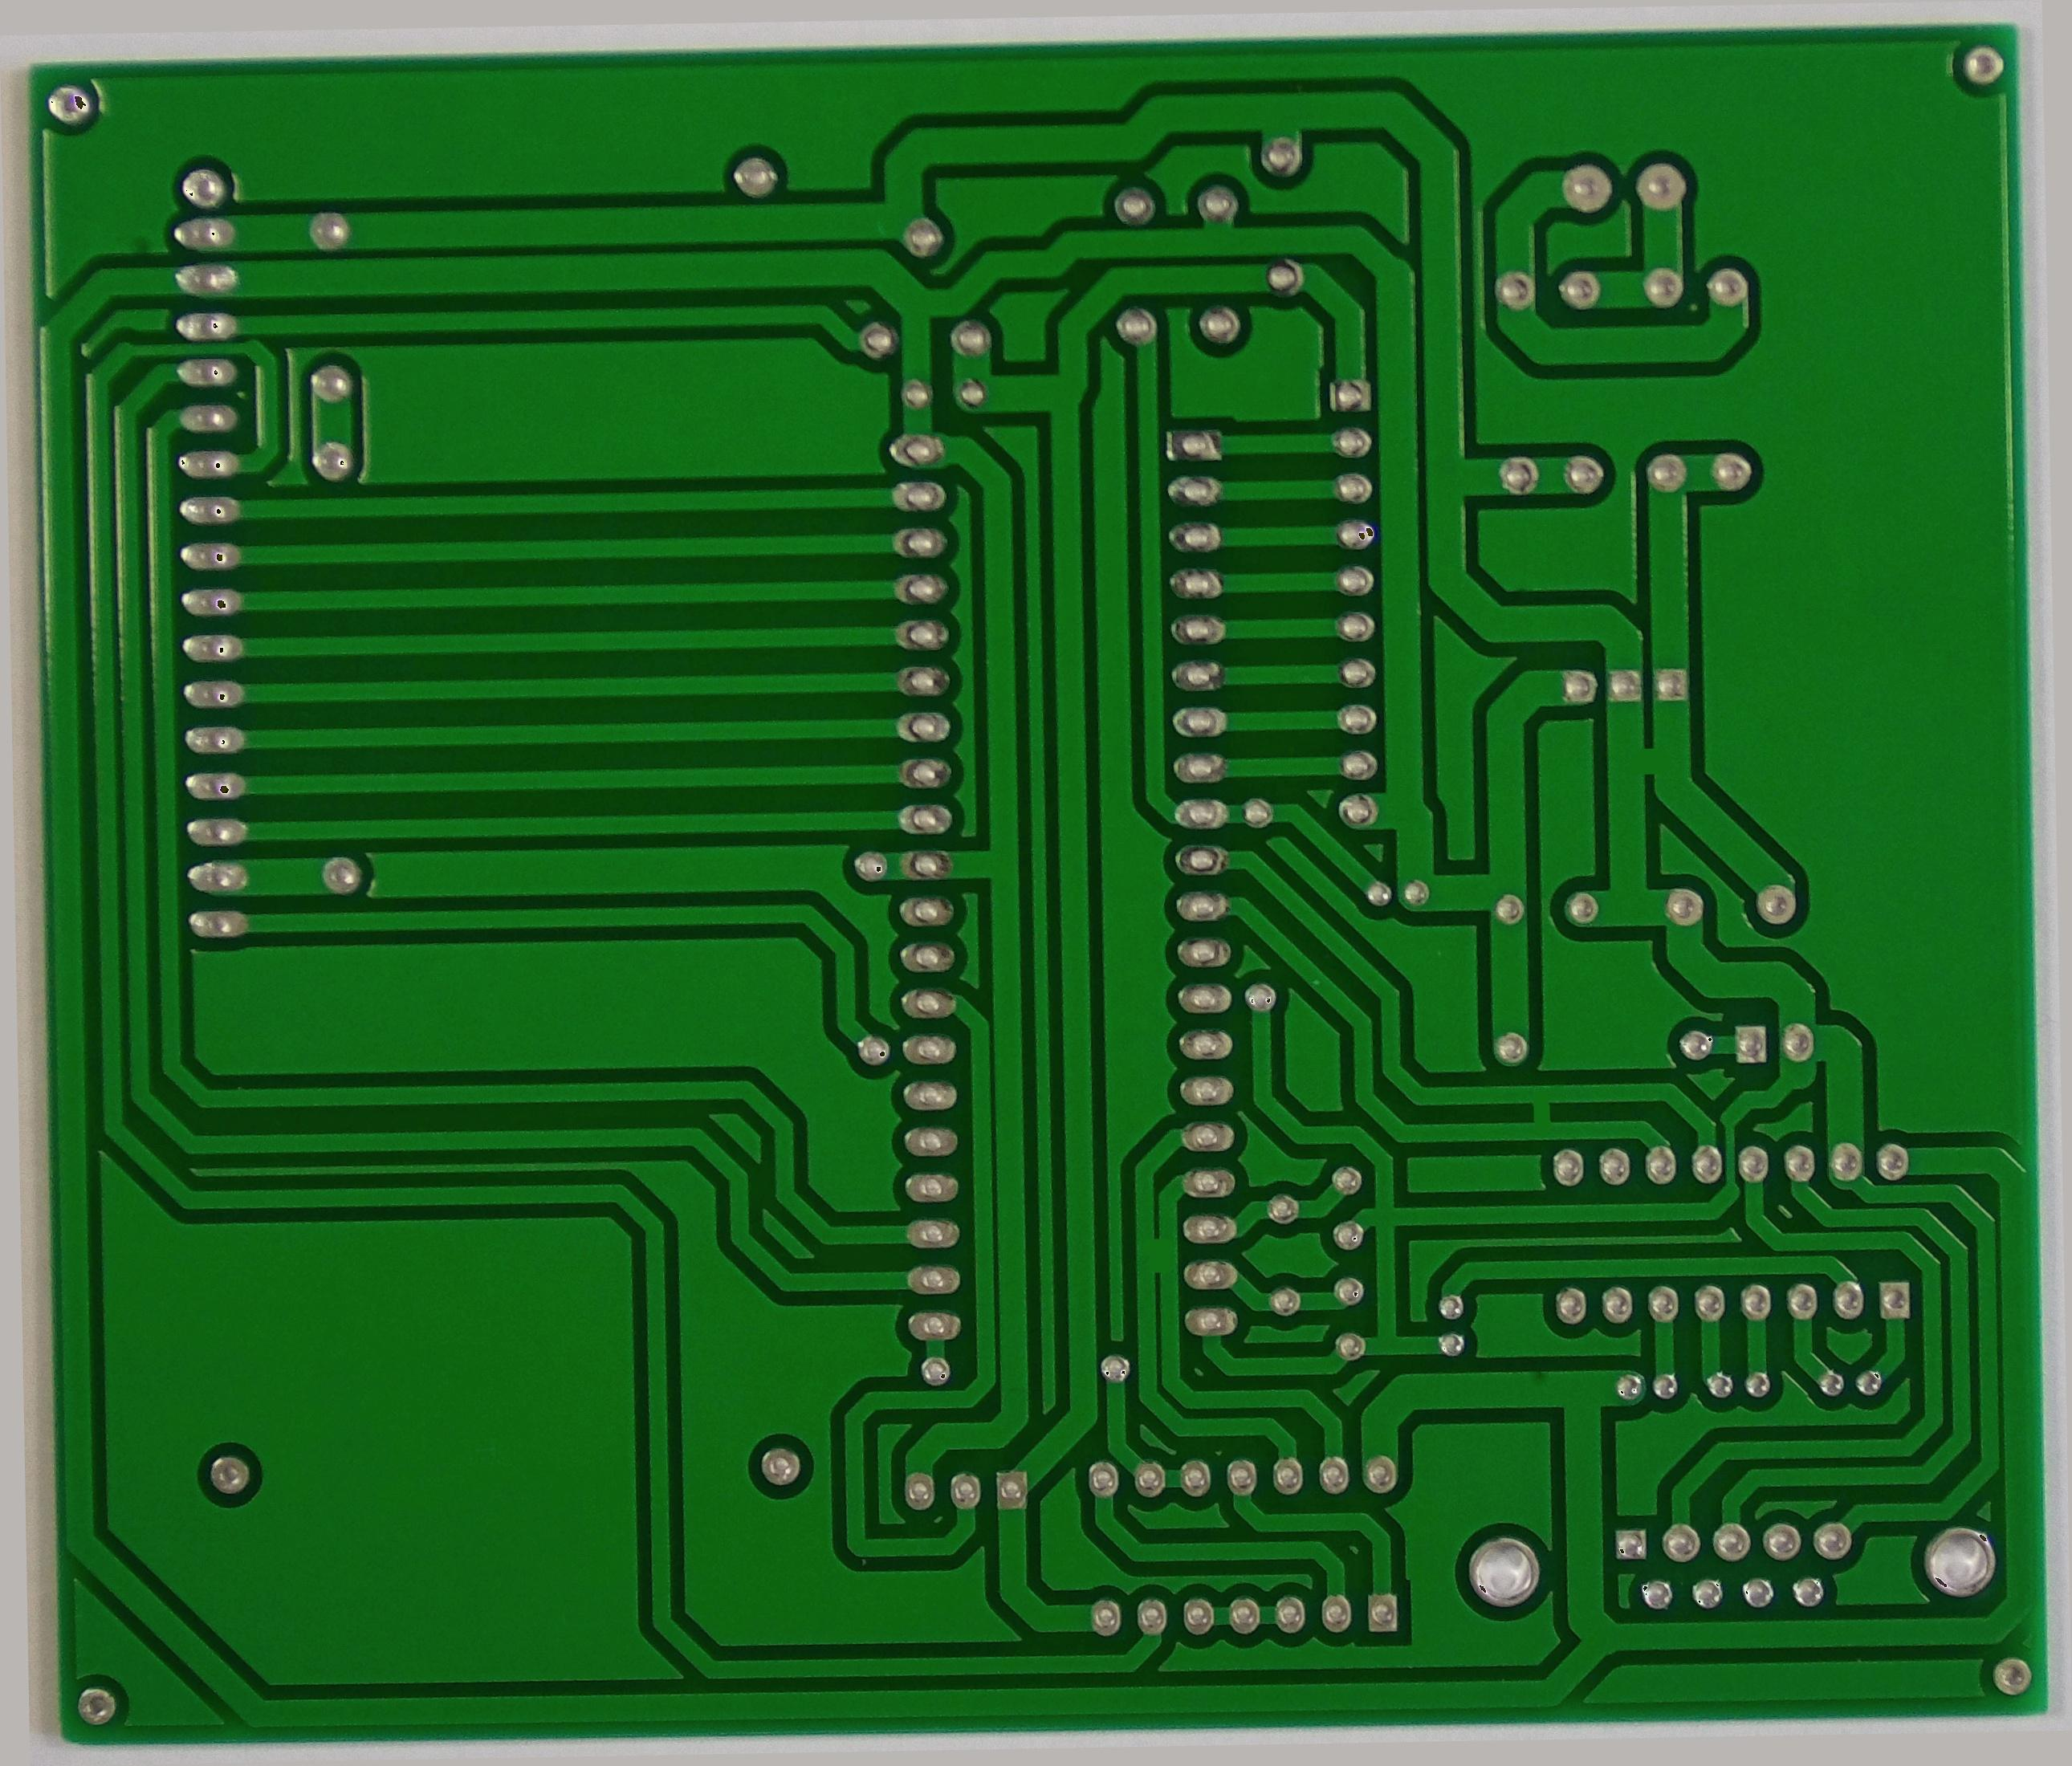short: (1603, 731, 1697, 797), (1508, 1076, 1575, 1142), (1128, 1228, 1184, 1286)
